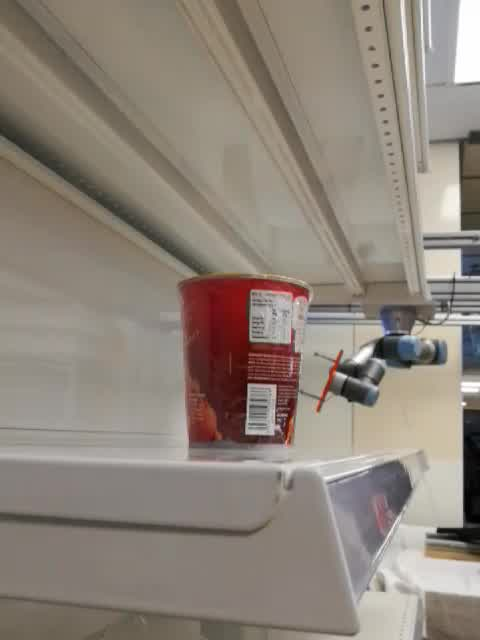maggi: (178, 272, 312, 453)
